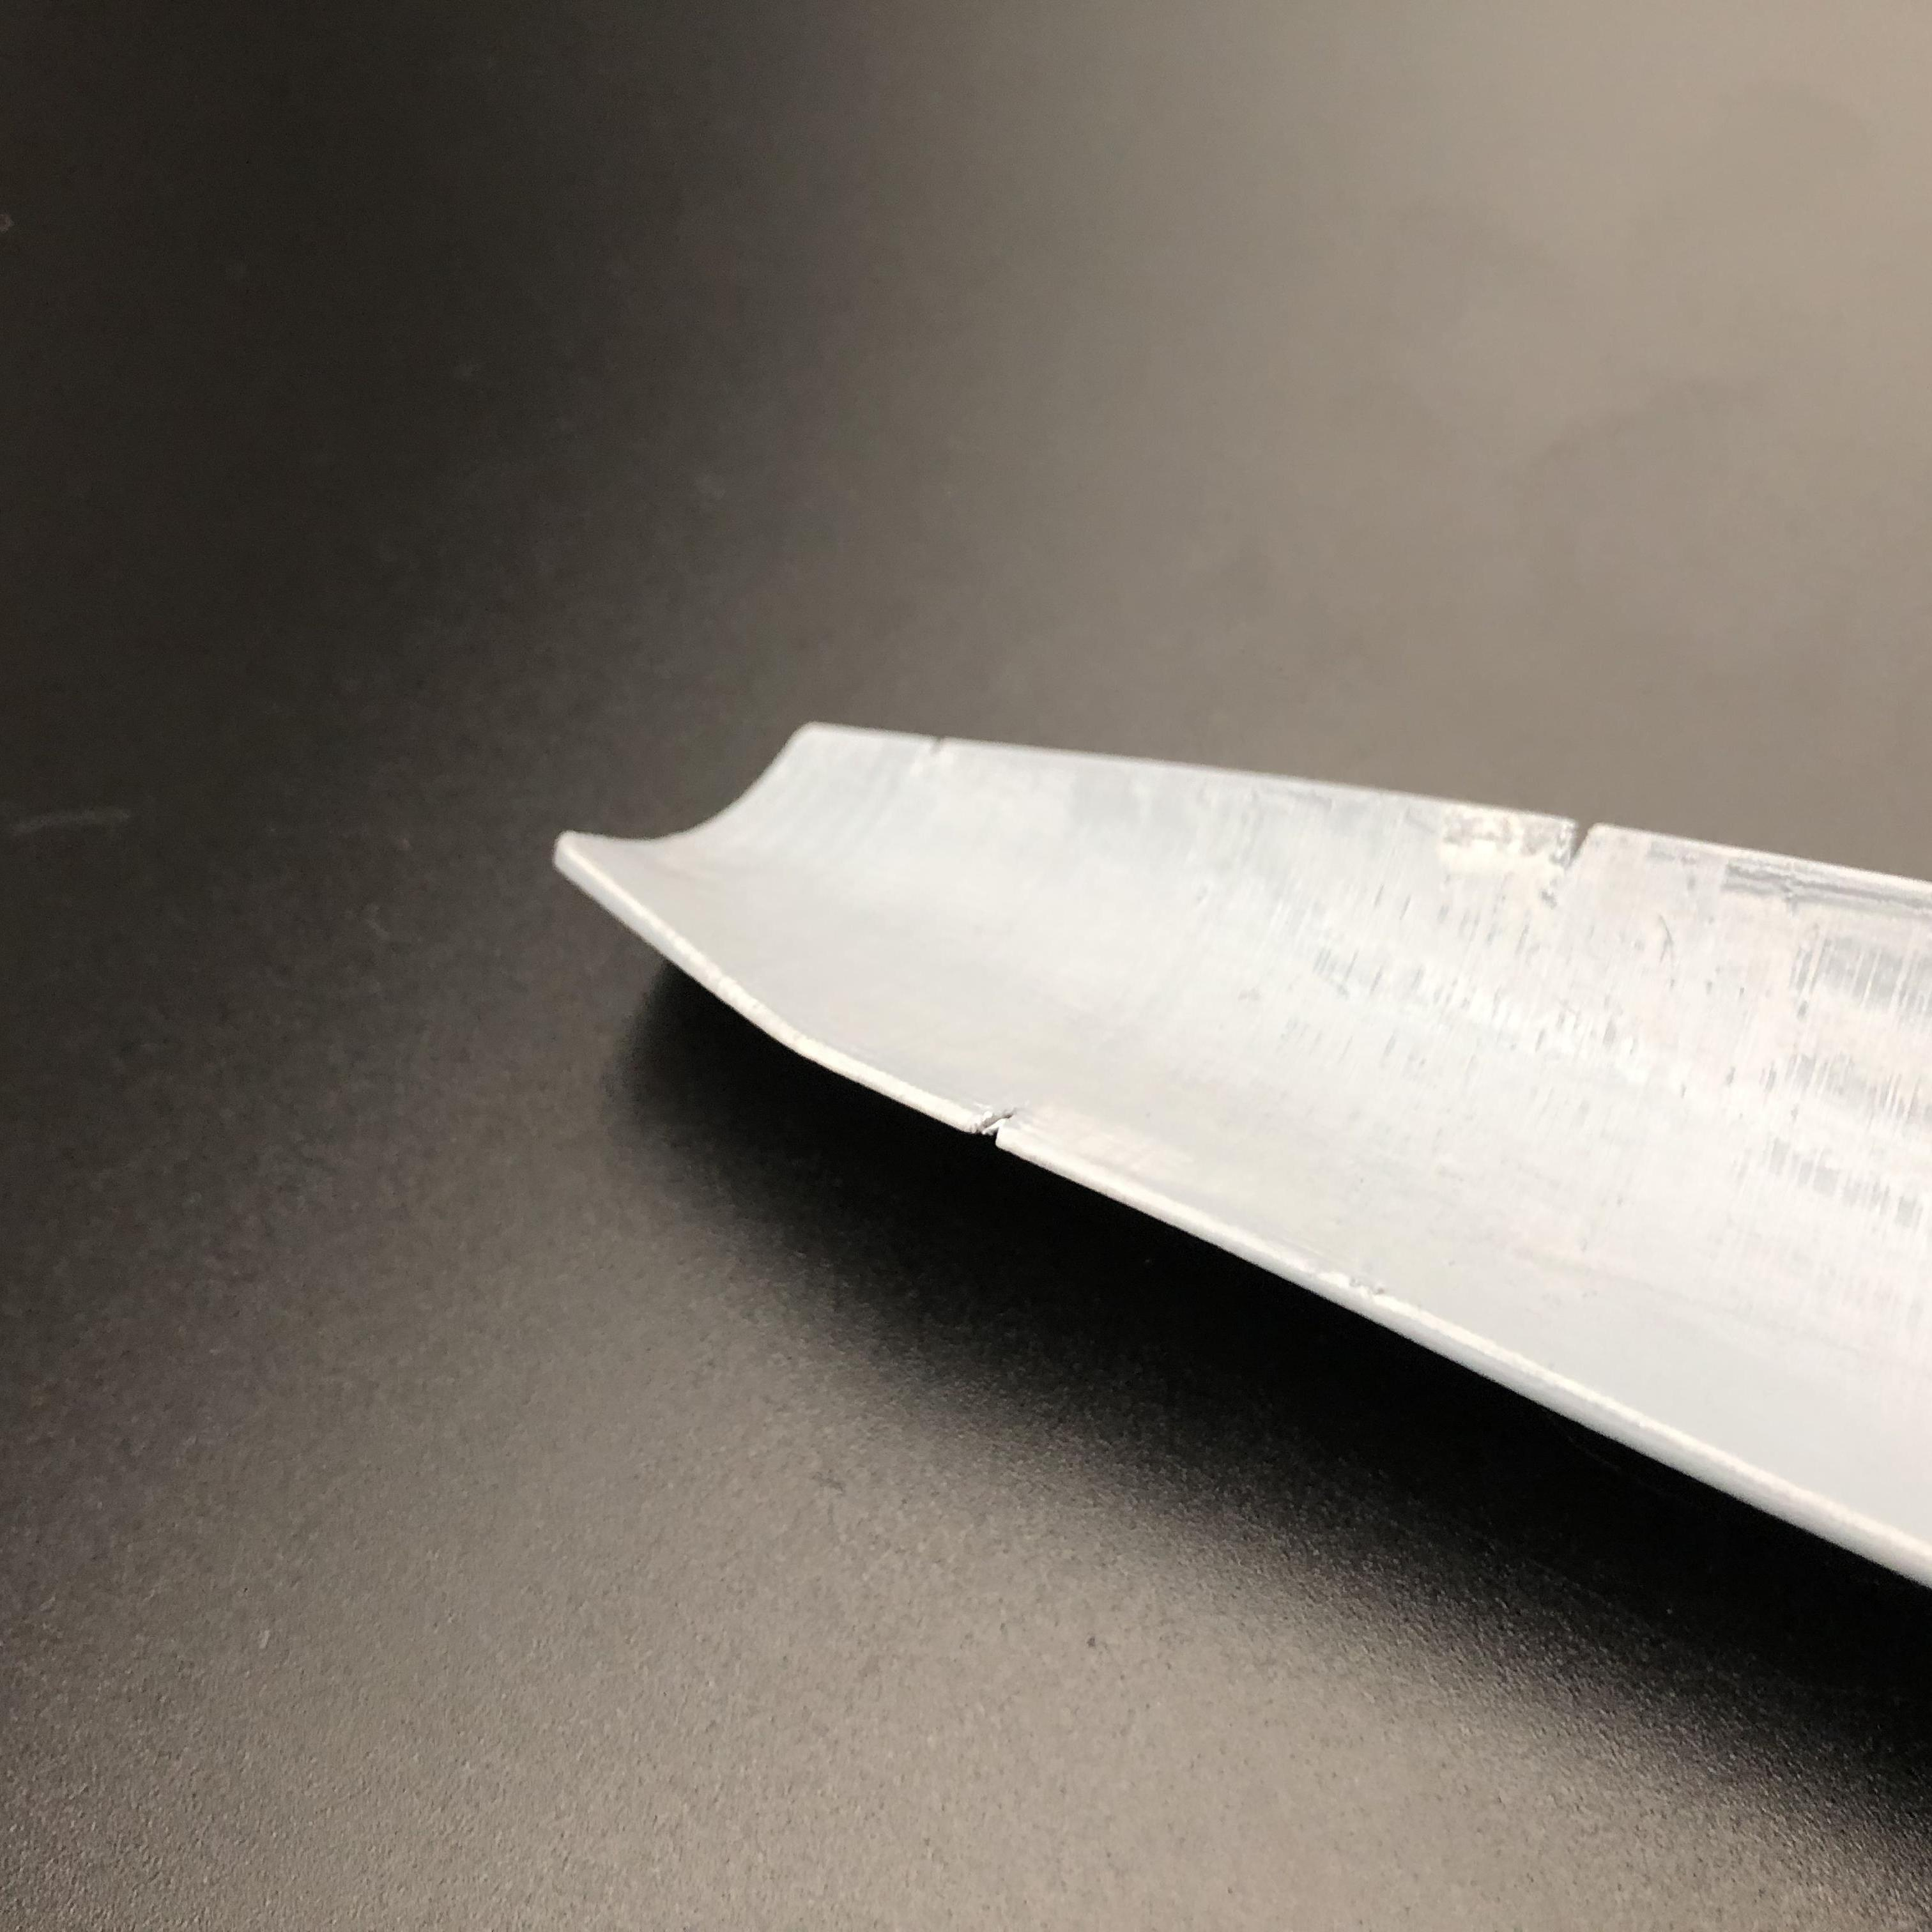groove: (1543, 821, 1629, 869), (966, 1099, 1042, 1141), (916, 725, 966, 755)
